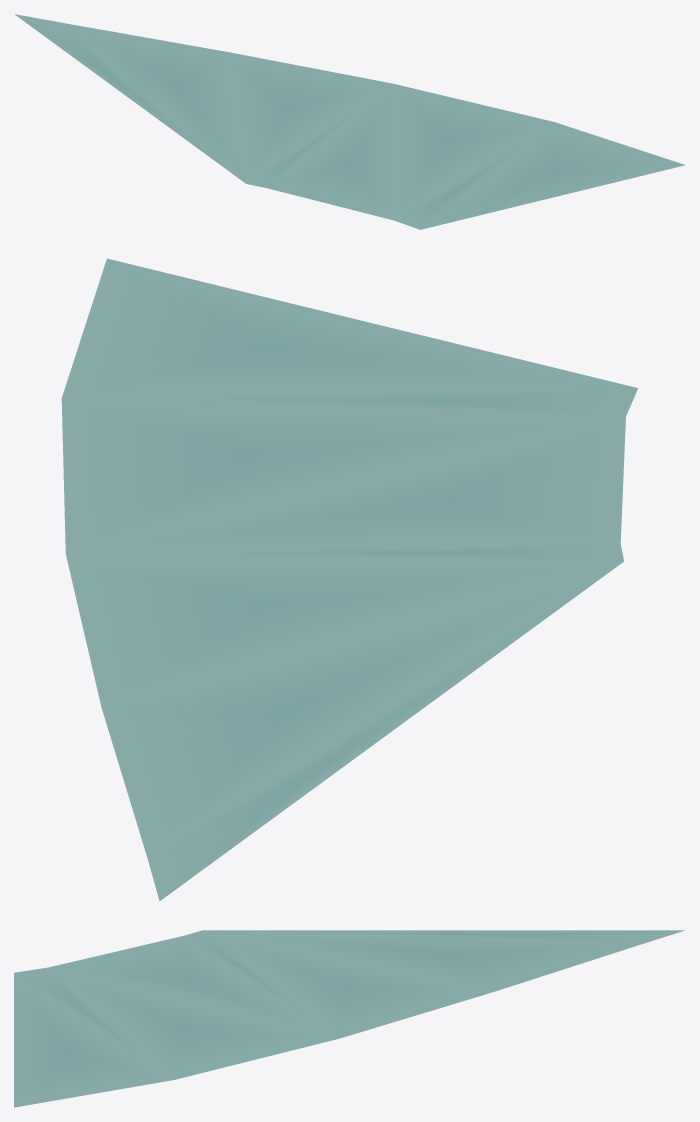
Rendered from water-18-7.glb.
The picture shows the model from 3 angles, top to bottom: view 1: azimuth 30°, elevation 25°; view 2: azimuth 150°, elevation 25°; view 3: azimuth 270°, elevation 25°; orthographic projection. The views are drawn at different scales.
Bounding box in the file's own units: 9.66 × 0 × 15.47.
